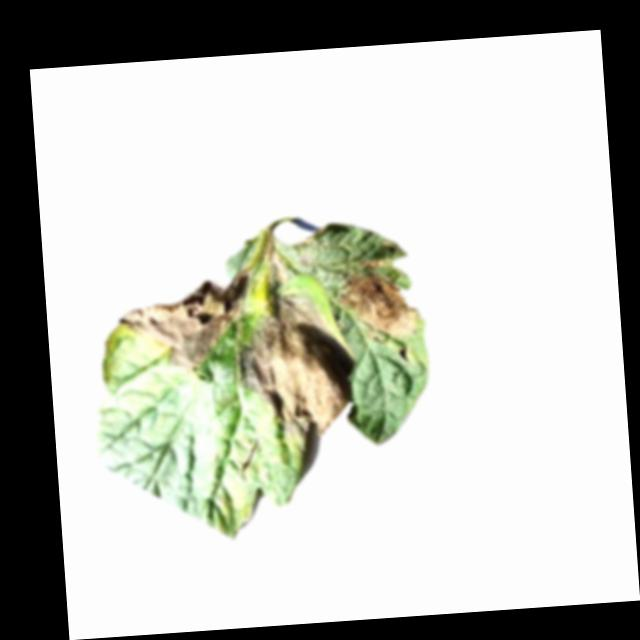Late_blight: (233, 288, 361, 451), (115, 270, 256, 378), (334, 271, 421, 345), (265, 246, 287, 285), (355, 258, 388, 273)
